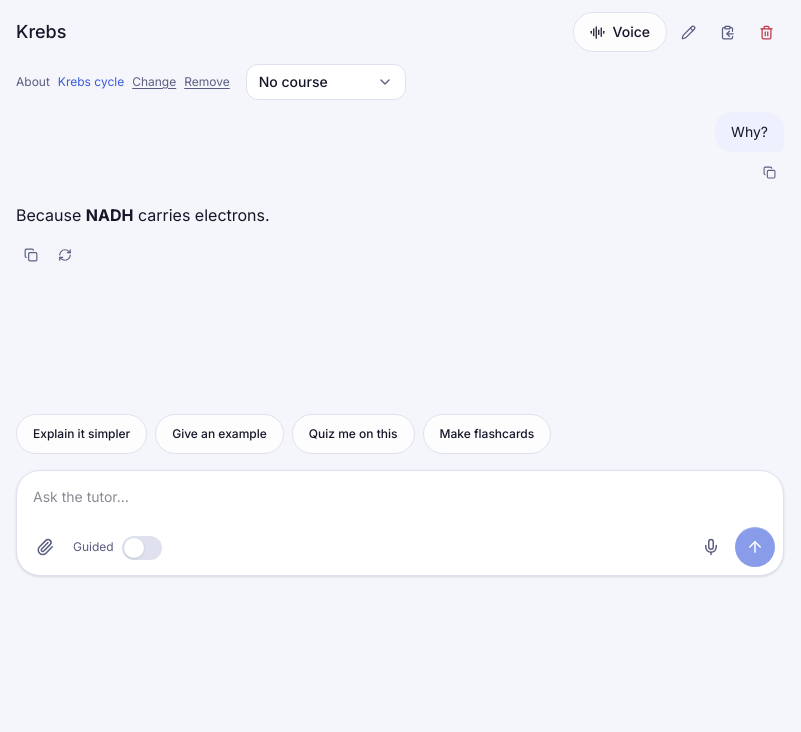
it: on a reply › copies the reply
Click the button named "Copy reply" at (31, 255), box [16,237,46,273]
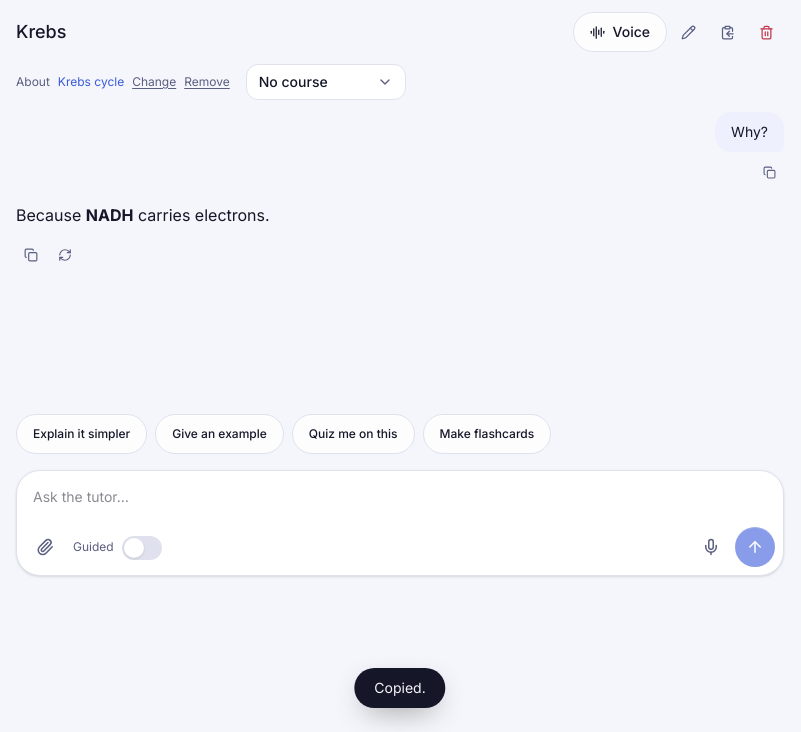
Expected: the text "Copied." is shown, [354,668,446,708]
